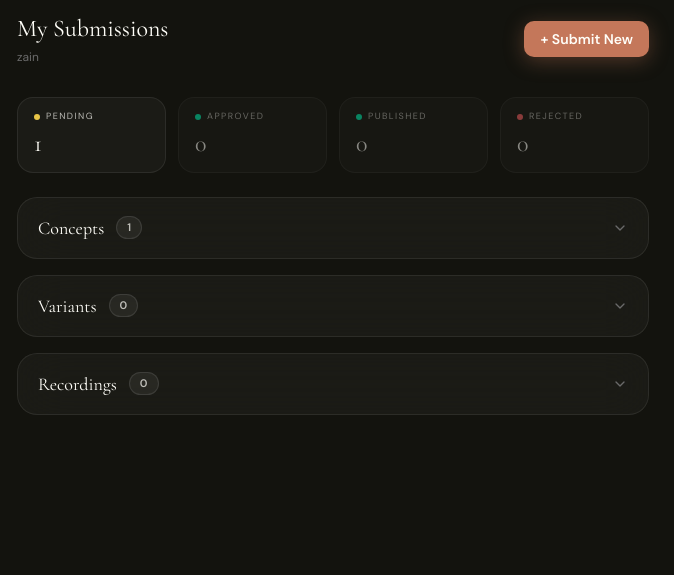
Test: MySubmissions page — sections › shows an error inside the section when its list fails to load
What coordinates should you click on to do the following:
click the button "Concepts 1"
I would click on:
 (71, 228)
Its box is top-left (18, 198), bottom-right (648, 258).
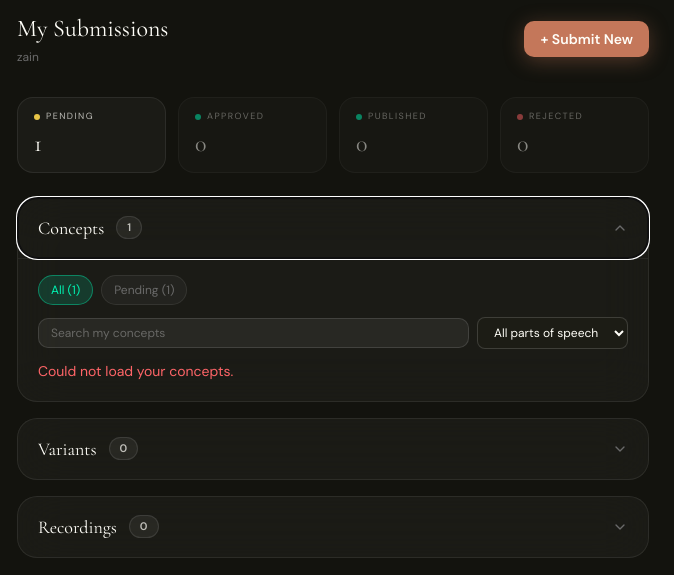
Result: the message shows "Could not load your concepts" at top-left (38, 362), bottom-right (233, 380)
